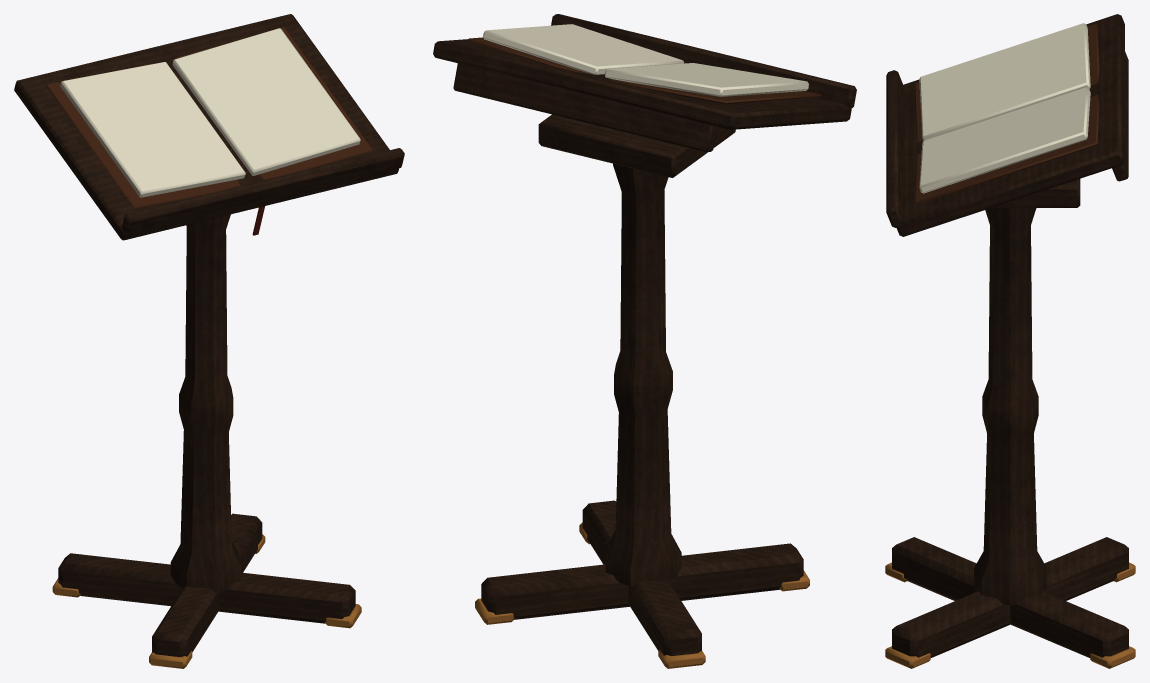
File: archive-folio-stand.lod1.glb
3 renders of one model, left to right at view 1: azimuth 30°, elevation 25°; view 2: azimuth 150°, elevation 25°; view 3: azimuth 270°, elevation 25°, orthographic. The views are drawn at different scales.
Visible parts, largest first — view 1: archive_folio_stand_Timber • oiled walnut, archive_folio_stand_Trim • places palette; view 2: archive_folio_stand_Timber • oiled walnut, archive_folio_stand_Trim • places palette; view 3: archive_folio_stand_Timber • oiled walnut, archive_folio_stand_Trim • places palette.
Boxes of the visible parts, x1=… form: archive_folio_stand_Timber • oiled walnut: x1=14, y1=14, x2=404, y2=656; archive_folio_stand_Trim • places palette: x1=46, y1=27, x2=372, y2=668; archive_folio_stand_Timber • oiled walnut: x1=433, y1=14, x2=856, y2=655; archive_folio_stand_Trim • places palette: x1=467, y1=24, x2=821, y2=668; archive_folio_stand_Timber • oiled walnut: x1=886, y1=14, x2=1128, y2=657; archive_folio_stand_Trim • places palette: x1=885, y1=23, x2=1135, y2=668.
Size of the model in its own units: 0.66 by 1.19 by 0.5006.
2 materials, 2 textured.
